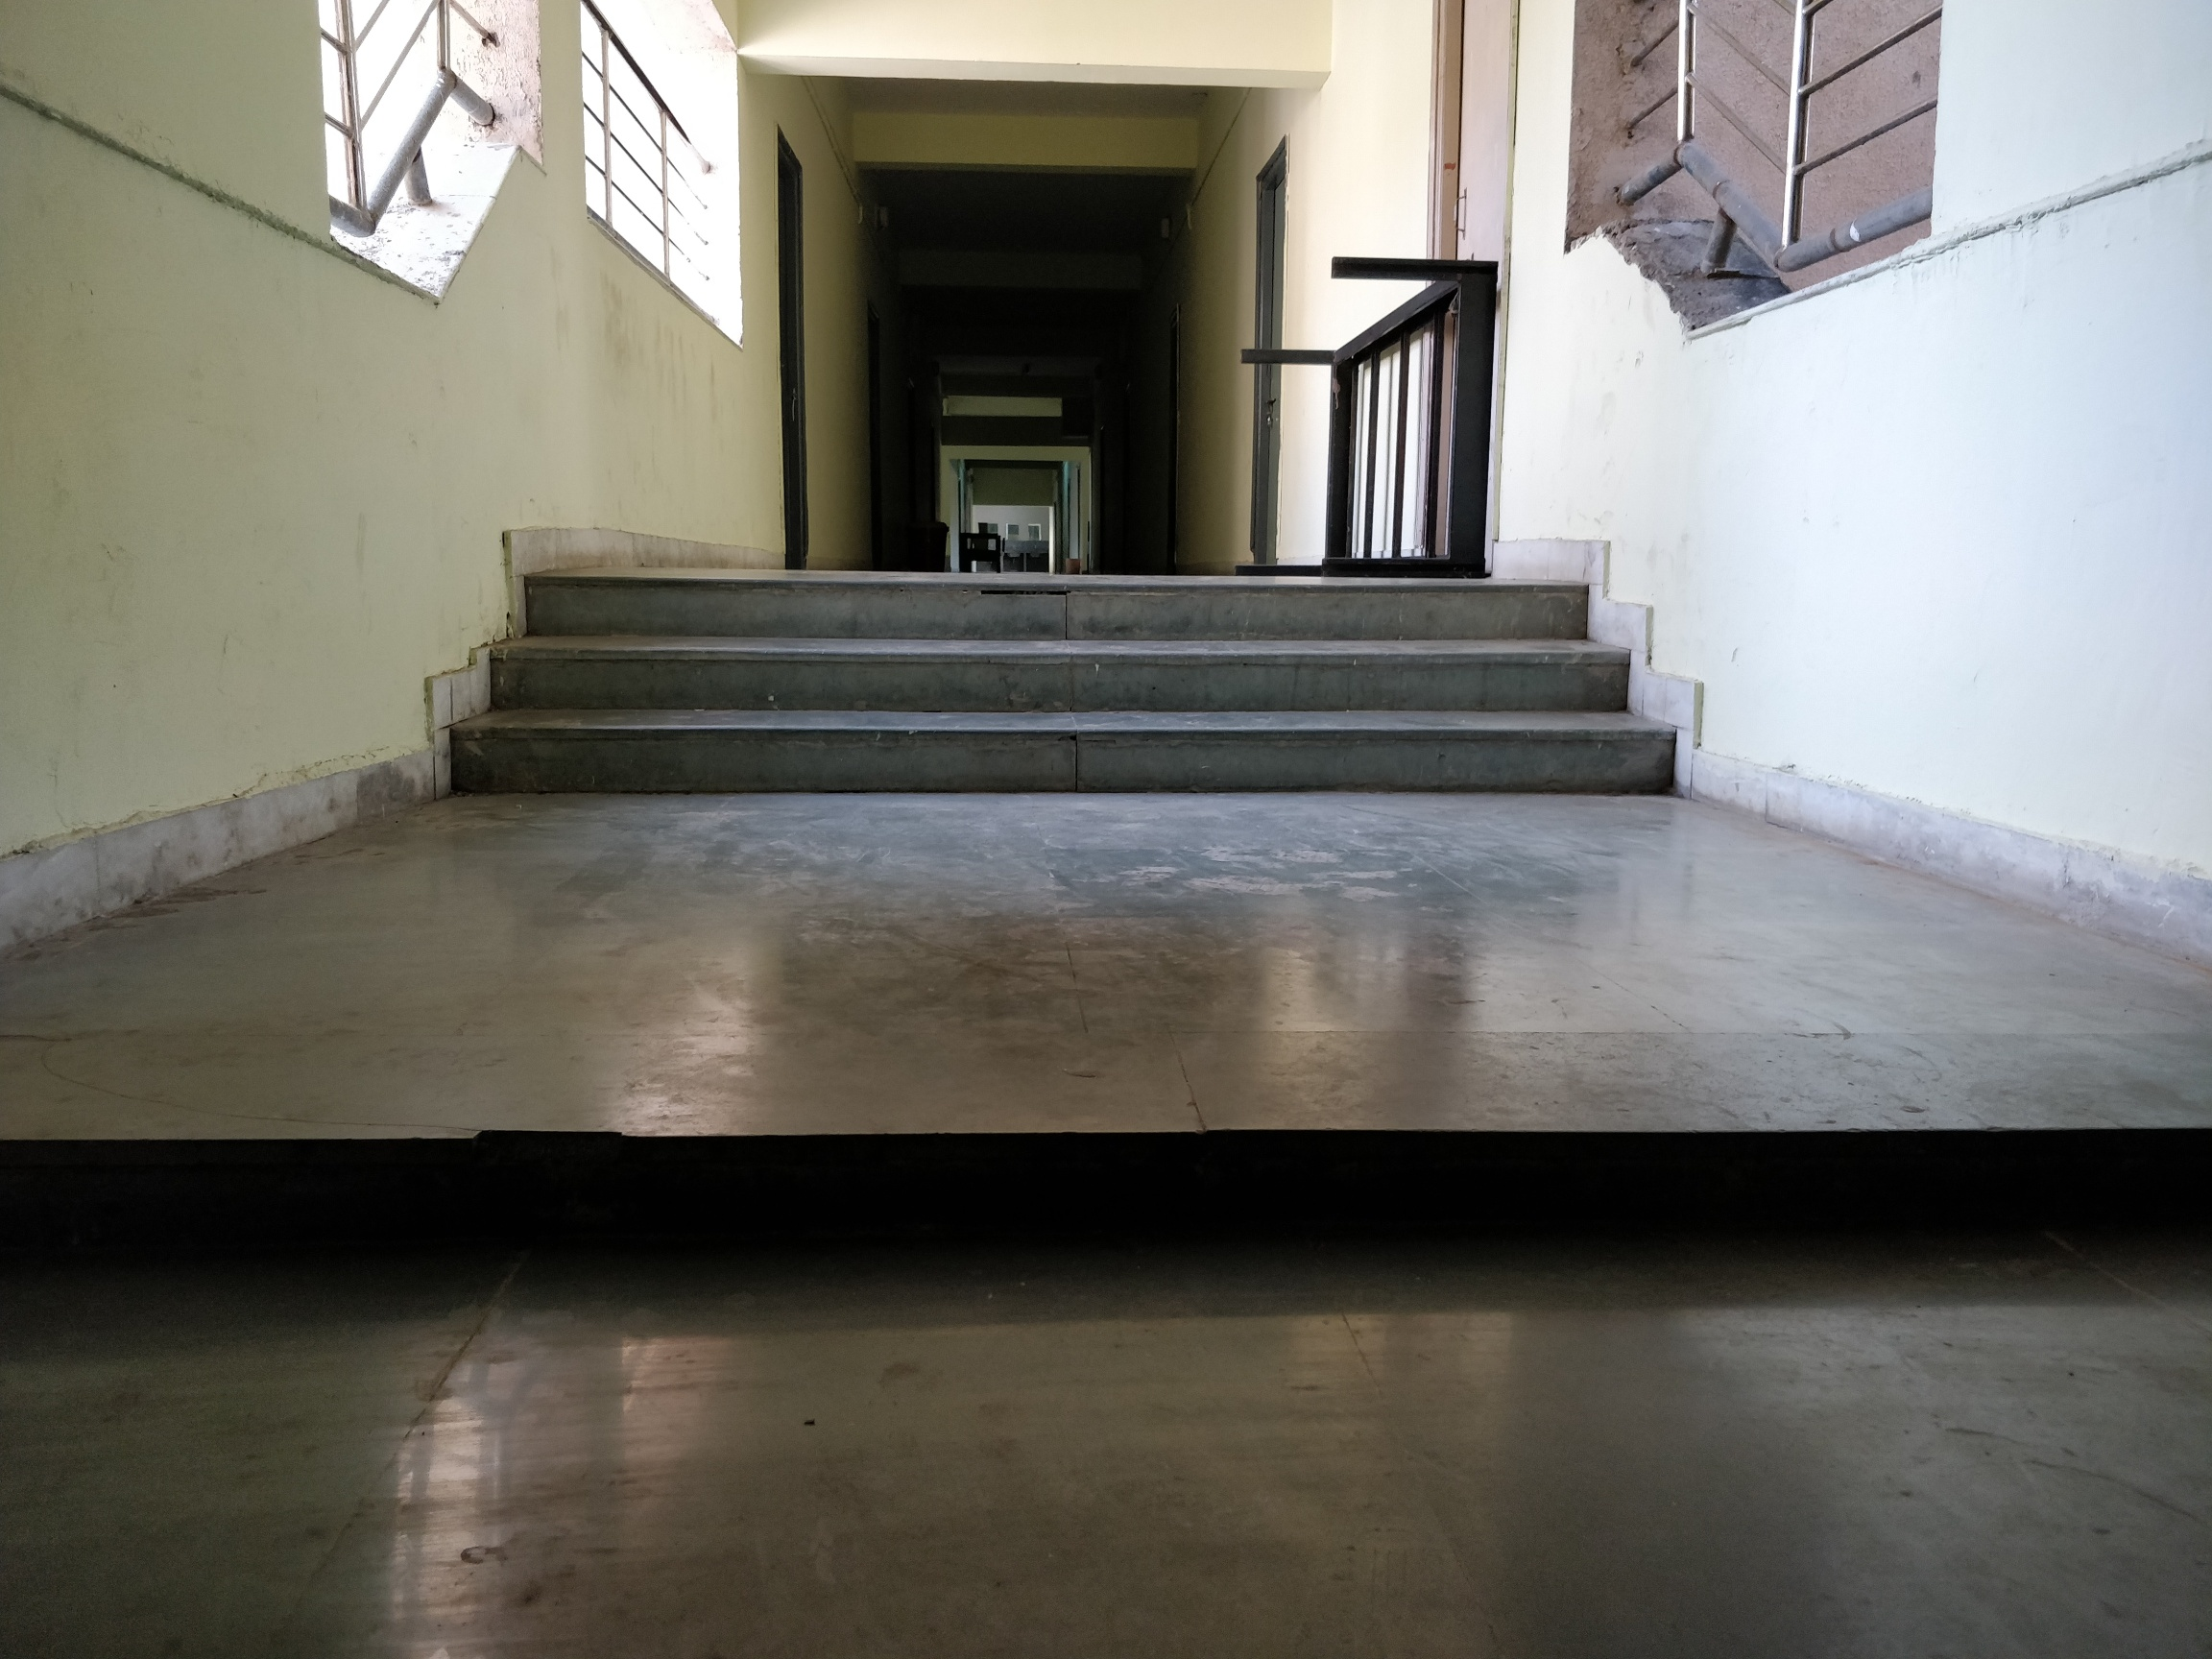stairs_up: (458, 570, 1670, 793)
